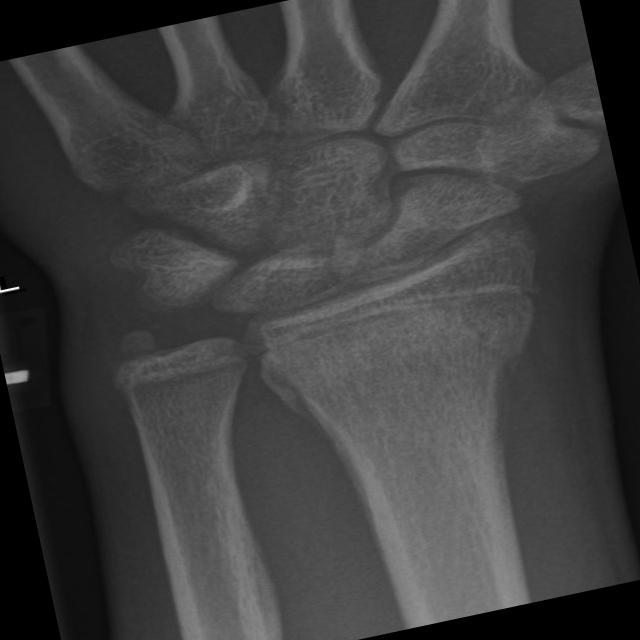fracture: (216, 254, 561, 386), (108, 326, 255, 412)
